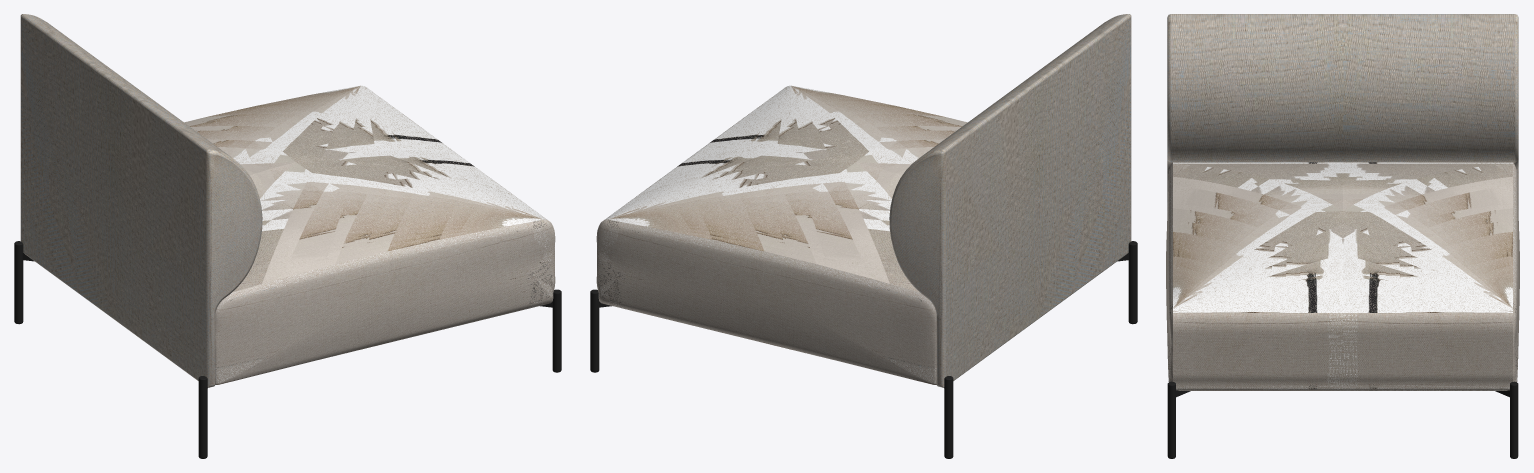
The model's file is couchseg.dae.
3 views of the same model, side by side, from view 1: azimuth 30°, elevation 25°; view 2: azimuth 150°, elevation 25°; view 3: azimuth 270°, elevation 25° (orthographic). The views are drawn at different scales.
Visible parts, largest first — view 1: Component_6 (×3), group_1 (×2), Component_14, group_0, Component_13 (×2), Component_8 (×3); view 2: Component_6 (×3), group_1 (×2), Component_14, group_0, Component_13 (×2), Component_8 (×3); view 3: group_1 (×2), Component_6 (×4), Component_13 (×2), group_0 (×2), Component_8 (×2), Component_14 (×2).
Part boxes in pixels (box(x1,y1,x2,y2)): Component_6 (×3): box(21, 14, 262, 387); group_1 (×2): box(205, 85, 548, 251); Component_14: box(215, 251, 391, 384); group_0: box(387, 219, 555, 342); Component_13 (×2): box(184, 117, 387, 292); Component_8 (×3): box(14, 241, 561, 458); Component_6 (×3): box(889, 14, 1130, 387); group_1 (×2): box(603, 85, 946, 251); Component_14: box(760, 251, 936, 384); group_0: box(596, 219, 764, 342); Component_13 (×2): box(764, 117, 967, 292); Component_8 (×3): box(590, 241, 1137, 458); group_1 (×2): box(1173, 211, 1512, 390); Component_6 (×4): box(1167, 14, 1518, 210); Component_13 (×2): box(1173, 162, 1512, 231); group_0 (×2): box(1166, 232, 1519, 381); Component_8 (×2): box(1167, 381, 1518, 458); Component_14 (×2): box(1166, 162, 1519, 272).
Size of the model in its own units: 33.07 by 30.14 by 26.82.
Materials: 8 (6 with a texture image).
